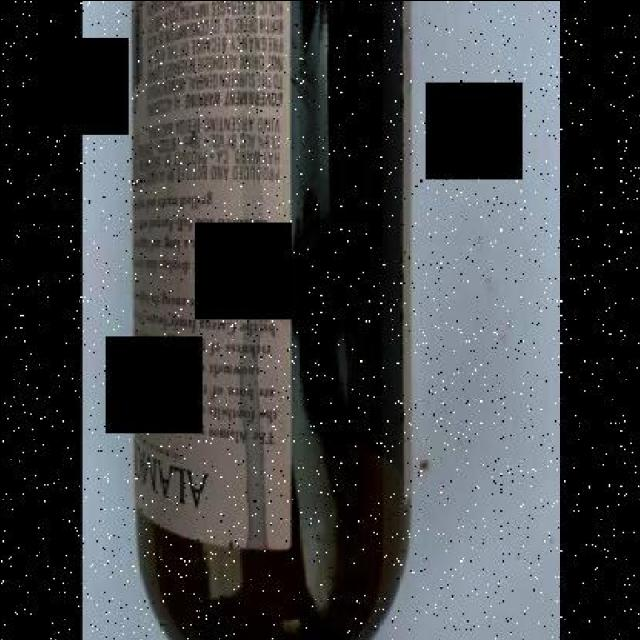glass: (102, 1, 438, 638)
